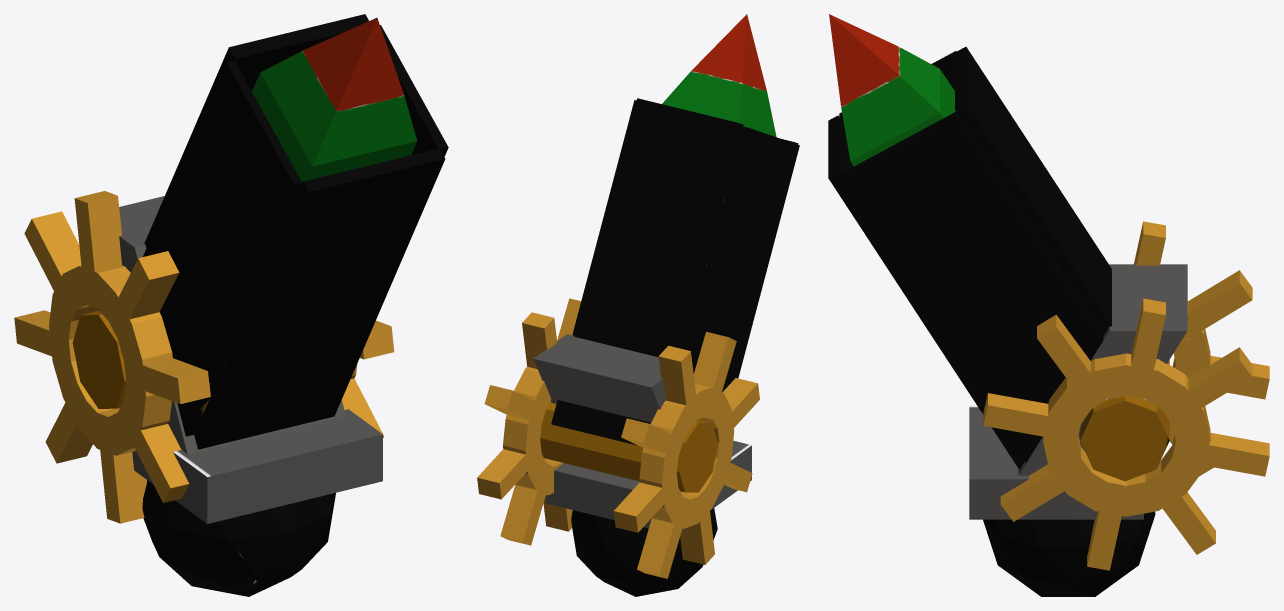
File: Misiile.obj
3 renders of one model, left to right at view 1: azimuth 30°, elevation 25°; view 2: azimuth 150°, elevation 25°; view 3: azimuth 270°, elevation 25°, orthographic. The views are drawn at different scales.
Visible parts, largest first — view 1: Misiile; view 2: Misiile; view 3: Misiile.
Part boxes in pixels (box(x1,y1,x2,y2)): Misiile: box(14, 14, 448, 596); Misiile: box(477, 14, 799, 596); Misiile: box(828, 14, 1269, 596).
Bounding box in the file's own units: 2.43 × 7.32 × 5.06.
